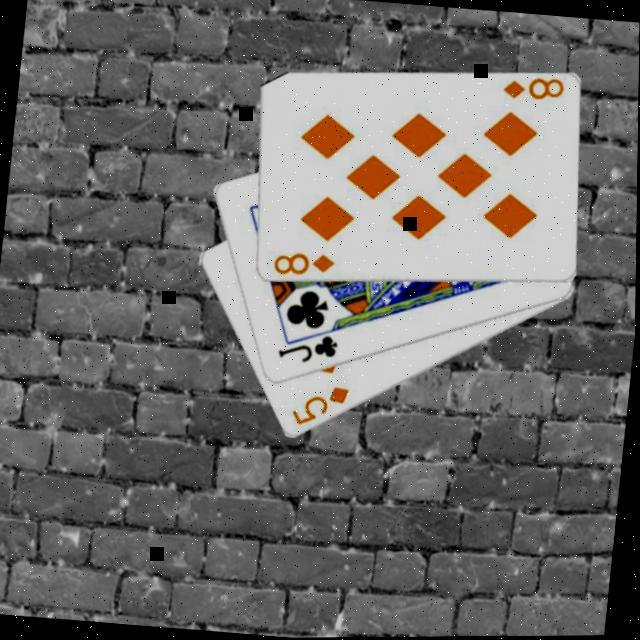5D: (289, 382, 355, 435)
8D: (272, 250, 340, 284), (500, 74, 568, 108)
JC: (276, 330, 343, 370)
